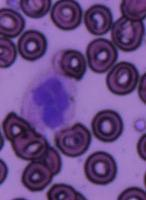N: (20, 68, 80, 136)
